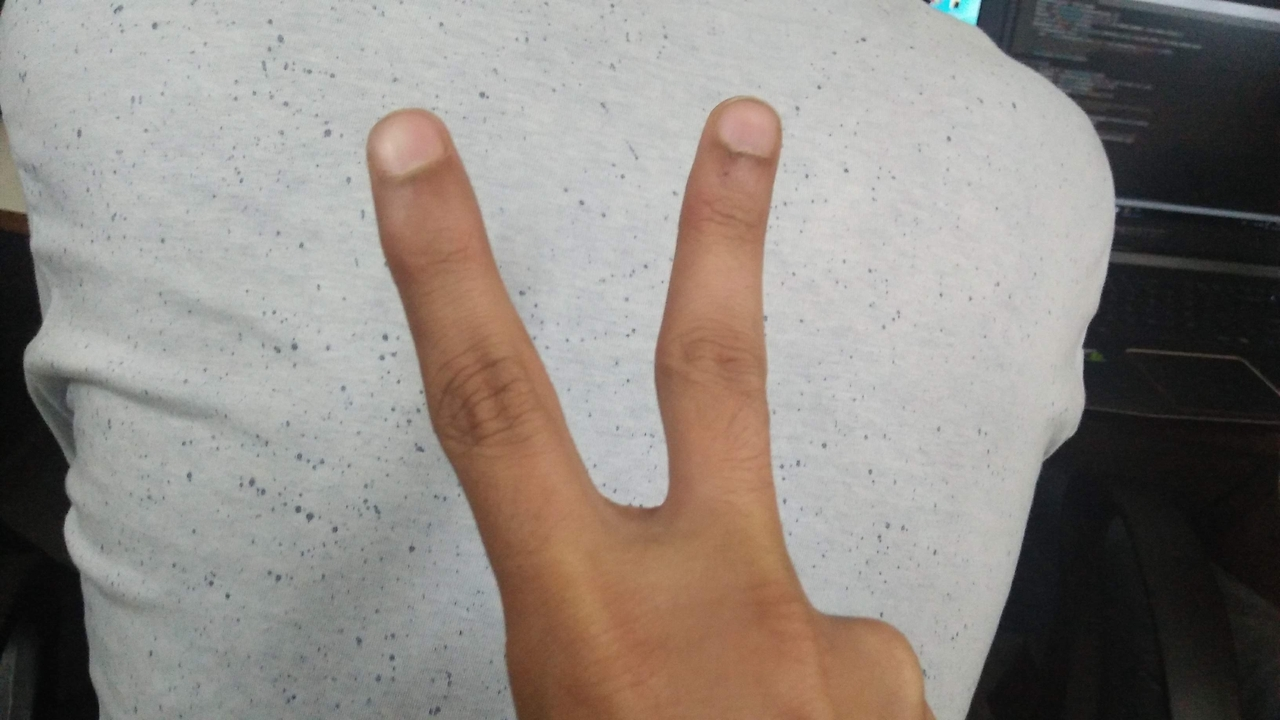fingertip: (352, 112, 454, 174), (698, 98, 788, 164)
